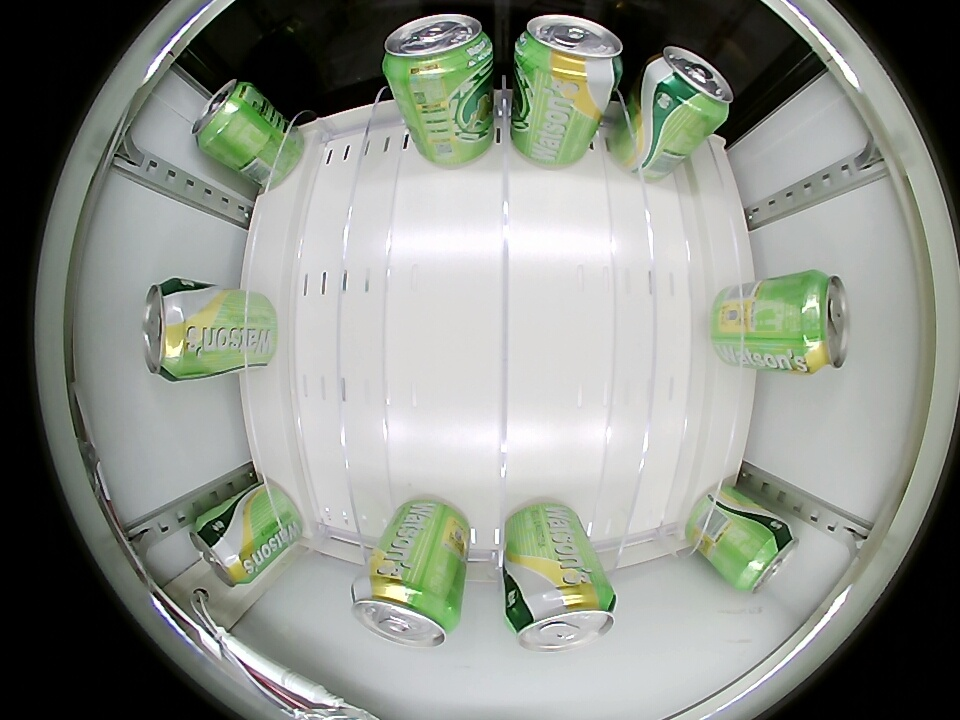quchenshixiangcao: (383, 14, 492, 89), (515, 14, 625, 87), (350, 575, 459, 648), (506, 583, 616, 651), (644, 46, 733, 123), (793, 271, 848, 373), (142, 277, 195, 382), (193, 79, 257, 156), (732, 517, 797, 592), (191, 515, 250, 585)
